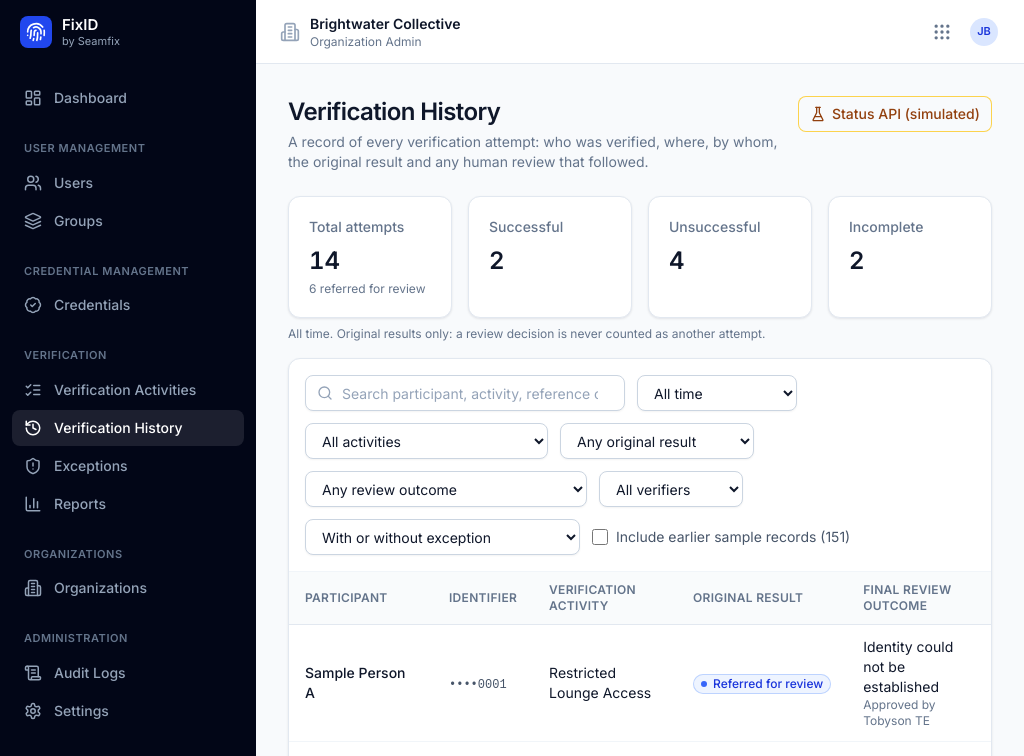
Scenario: Verification History screens › search finds an attempt by exception reference; clearing filters restores everything; no portraits anywhere
The width and height of the screenshot is (1024, 756).
Later steps or results of the test are not shown.
In the search field named "Search verification history": coordinates (465, 393) [305,375,625,411], type "EXC-00008"
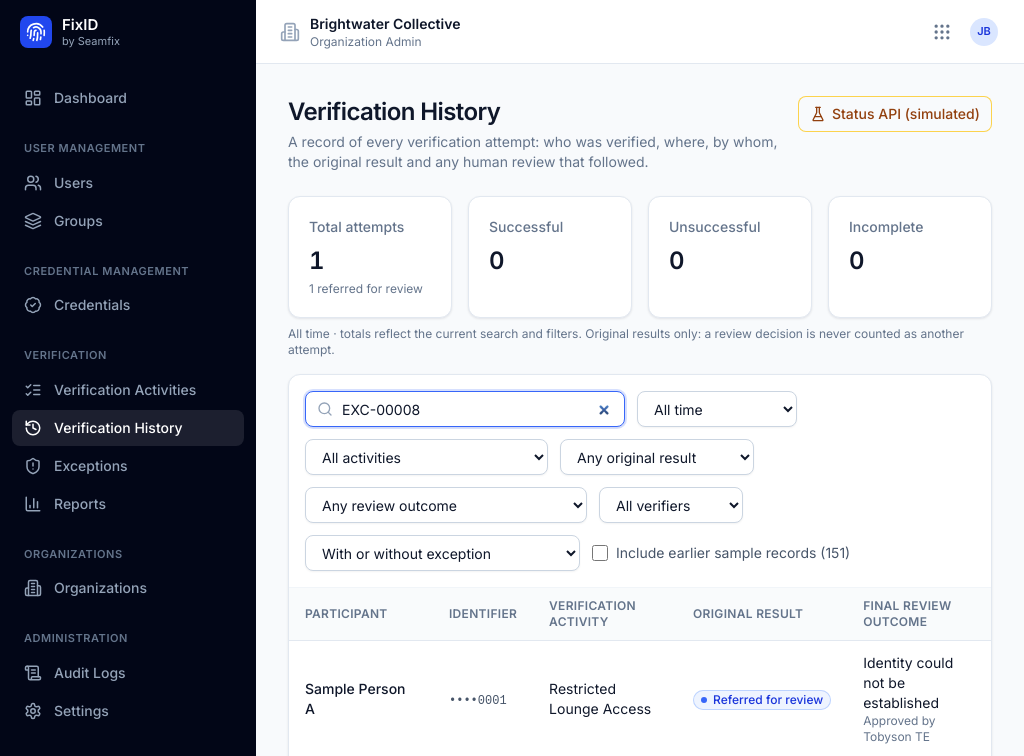
In the search field named "Search verification history": coordinates (465, 409) [305,391,625,427], type "zzz"
(page scrolled)
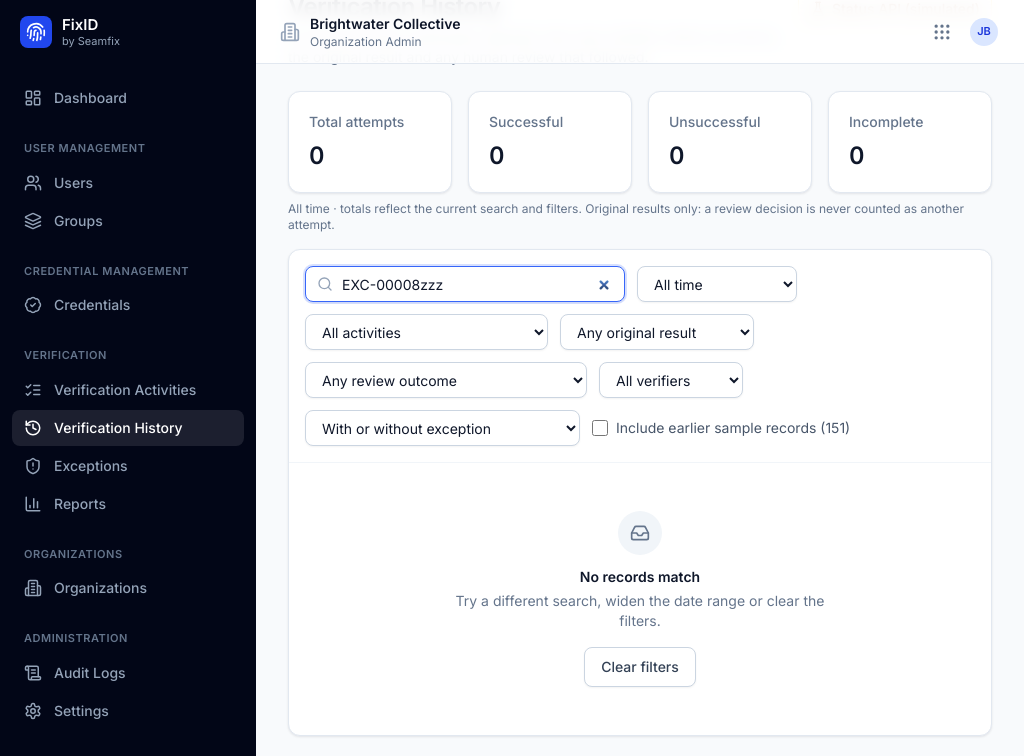
Expected: the heading "No records match" is shown, [580,567,700,587]
